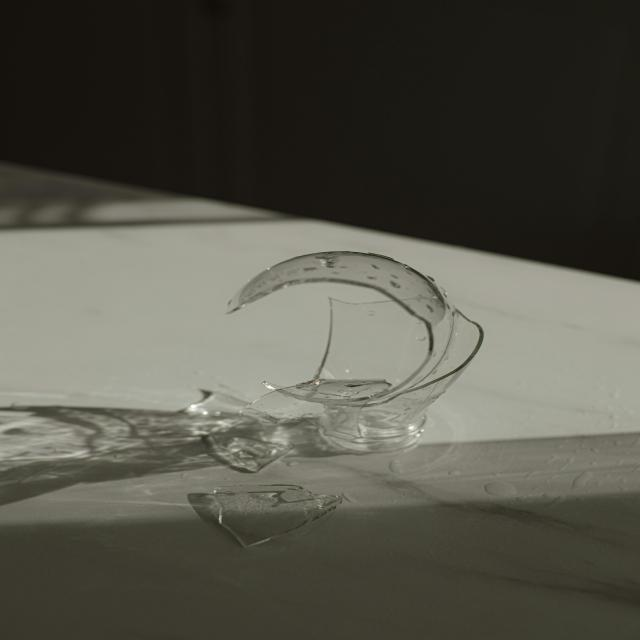electronic: (182, 246, 496, 550)
